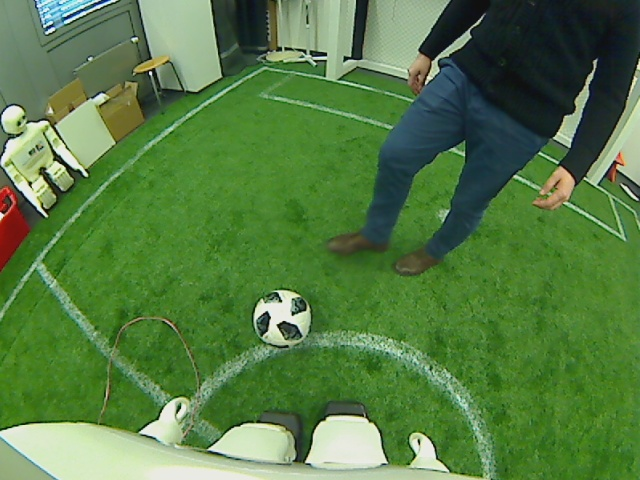ball: (251, 287, 313, 347)
